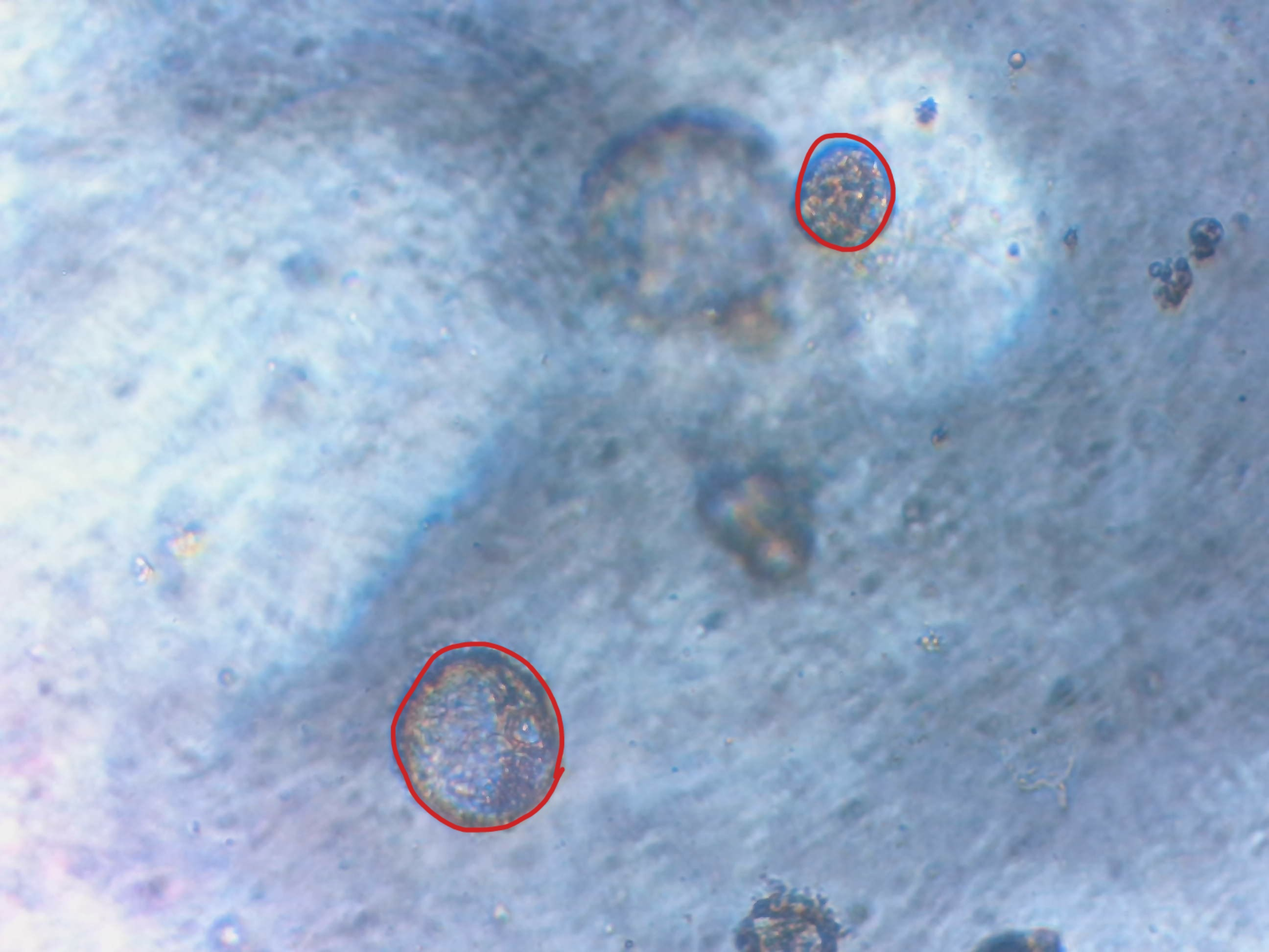organoid: (851, 130, 984, 263), (753, 431, 826, 507)
